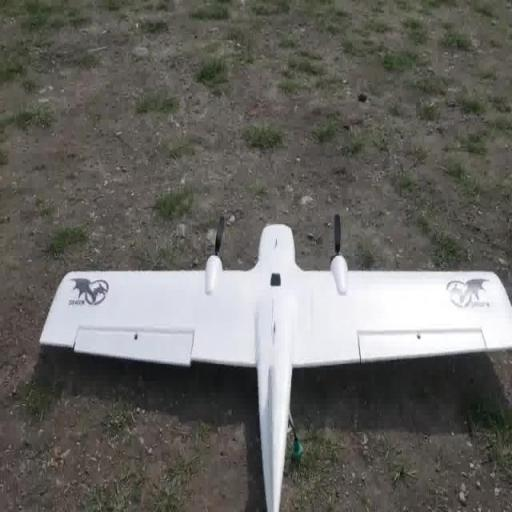uav: (37, 208, 511, 510)
